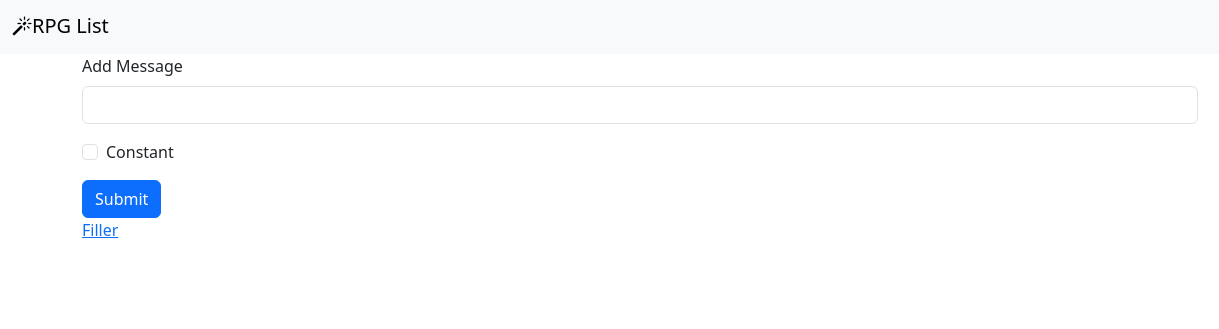
it: <MessageBlock /> › make not-constant
The image size is (1219, 329).
Type "Some text" into the field. click: (640, 105)
box: [82,86,1198,124]
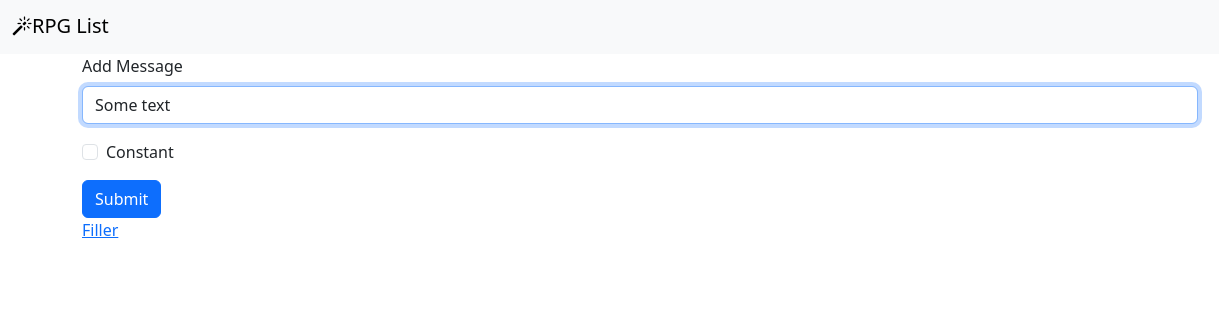
Click the button "Submit". click: (122, 199)
box: [82,180,161,218]
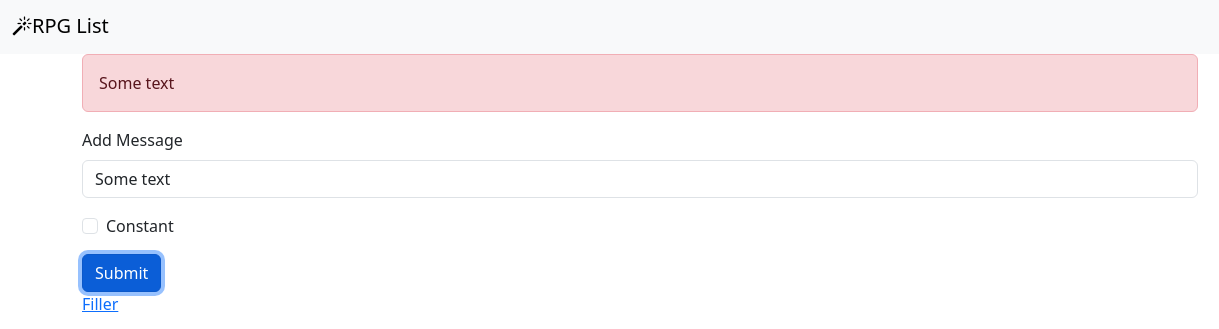
expect the element with class "d-flex" reads "Some text": met, box [82,54,1198,112]
